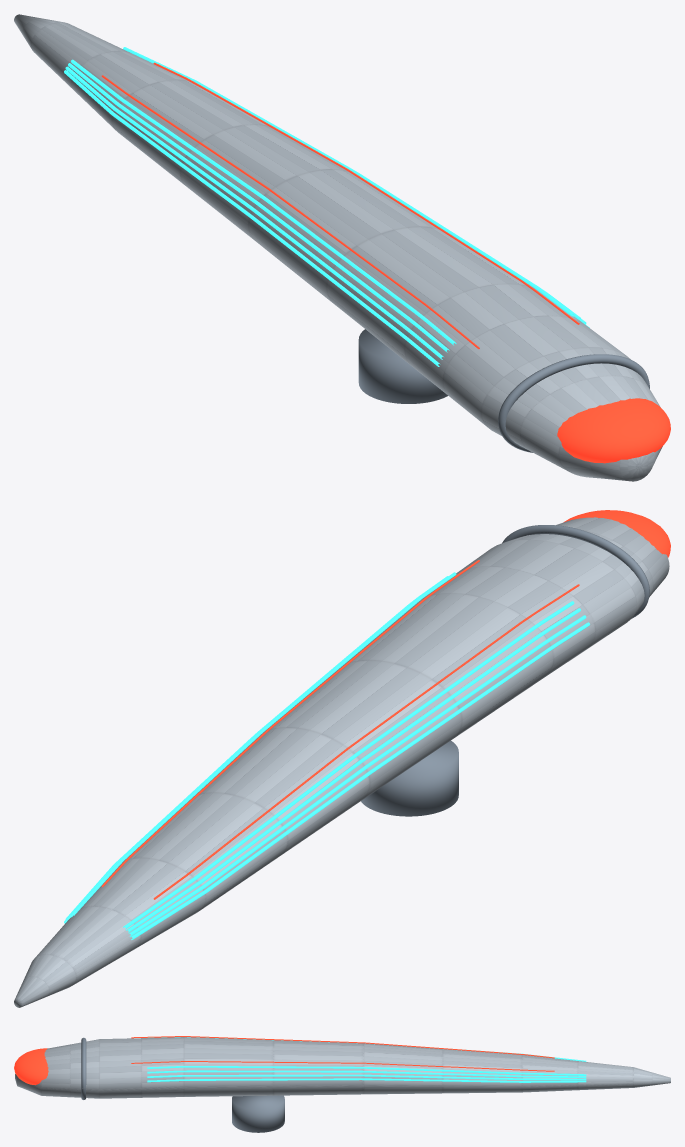
File: SovereignNacelle_Port_LOD0.fbx
3 renders of one model, top to bottom at view 1: azimuth 30°, elevation 25°; view 2: azimuth 150°, elevation 25°; view 3: azimuth 270°, elevation 25°, orthographic. The views are drawn at different scales.
Visible parts, largest first — view 1: SovereignNacelle_Port_LOD0; view 2: SovereignNacelle_Port_LOD0; view 3: SovereignNacelle_Port_LOD0.
Part boxes in pixels (bbox=[...]): SovereignNacelle_Port_LOD0: bbox=[14, 14, 670, 481]; SovereignNacelle_Port_LOD0: bbox=[14, 510, 670, 1007]; SovereignNacelle_Port_LOD0: bbox=[14, 1036, 670, 1132].
Size of the model in its own units: 4293 by 3864 by 29622.
Materials: 4 (1 with a texture image).
